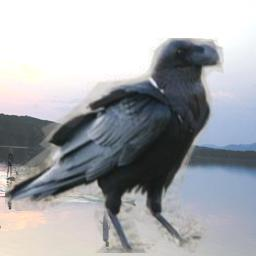Crow: (5, 38, 224, 253)
